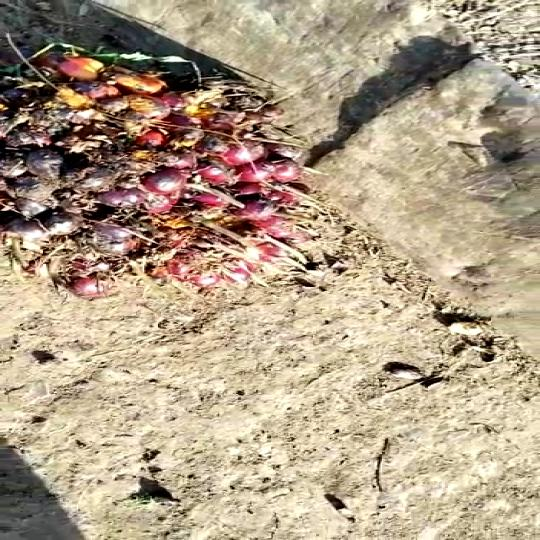masak: (0, 43, 322, 303)
